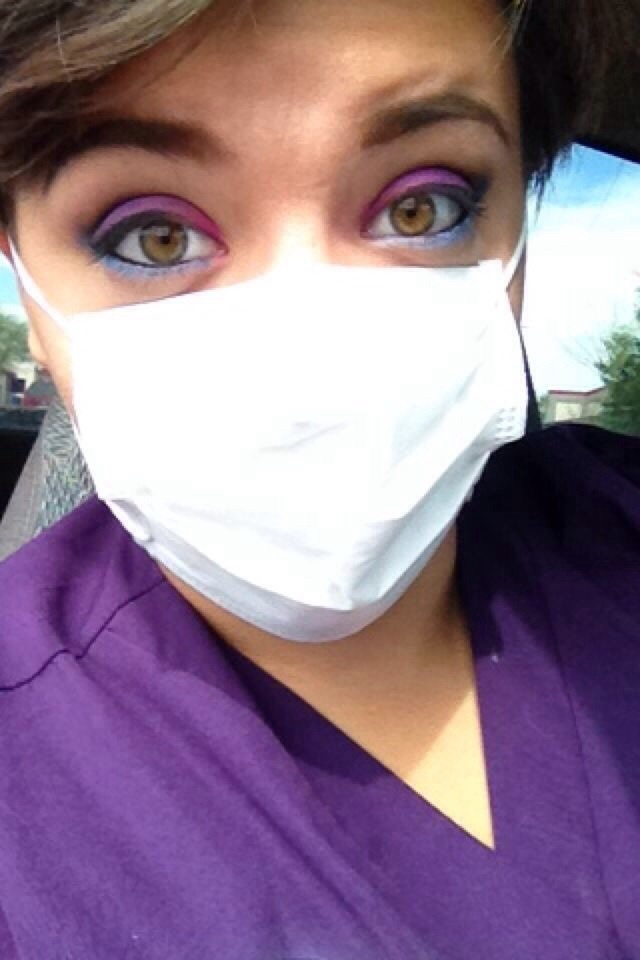mask: (59, 314, 535, 602)
